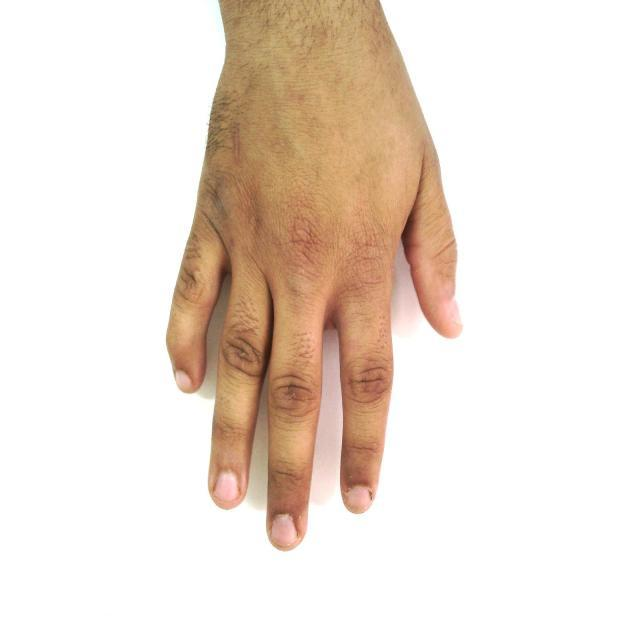Fingernail: (272, 515, 297, 546), (216, 471, 238, 502), (347, 487, 370, 513), (175, 370, 192, 392), (451, 300, 463, 326)
